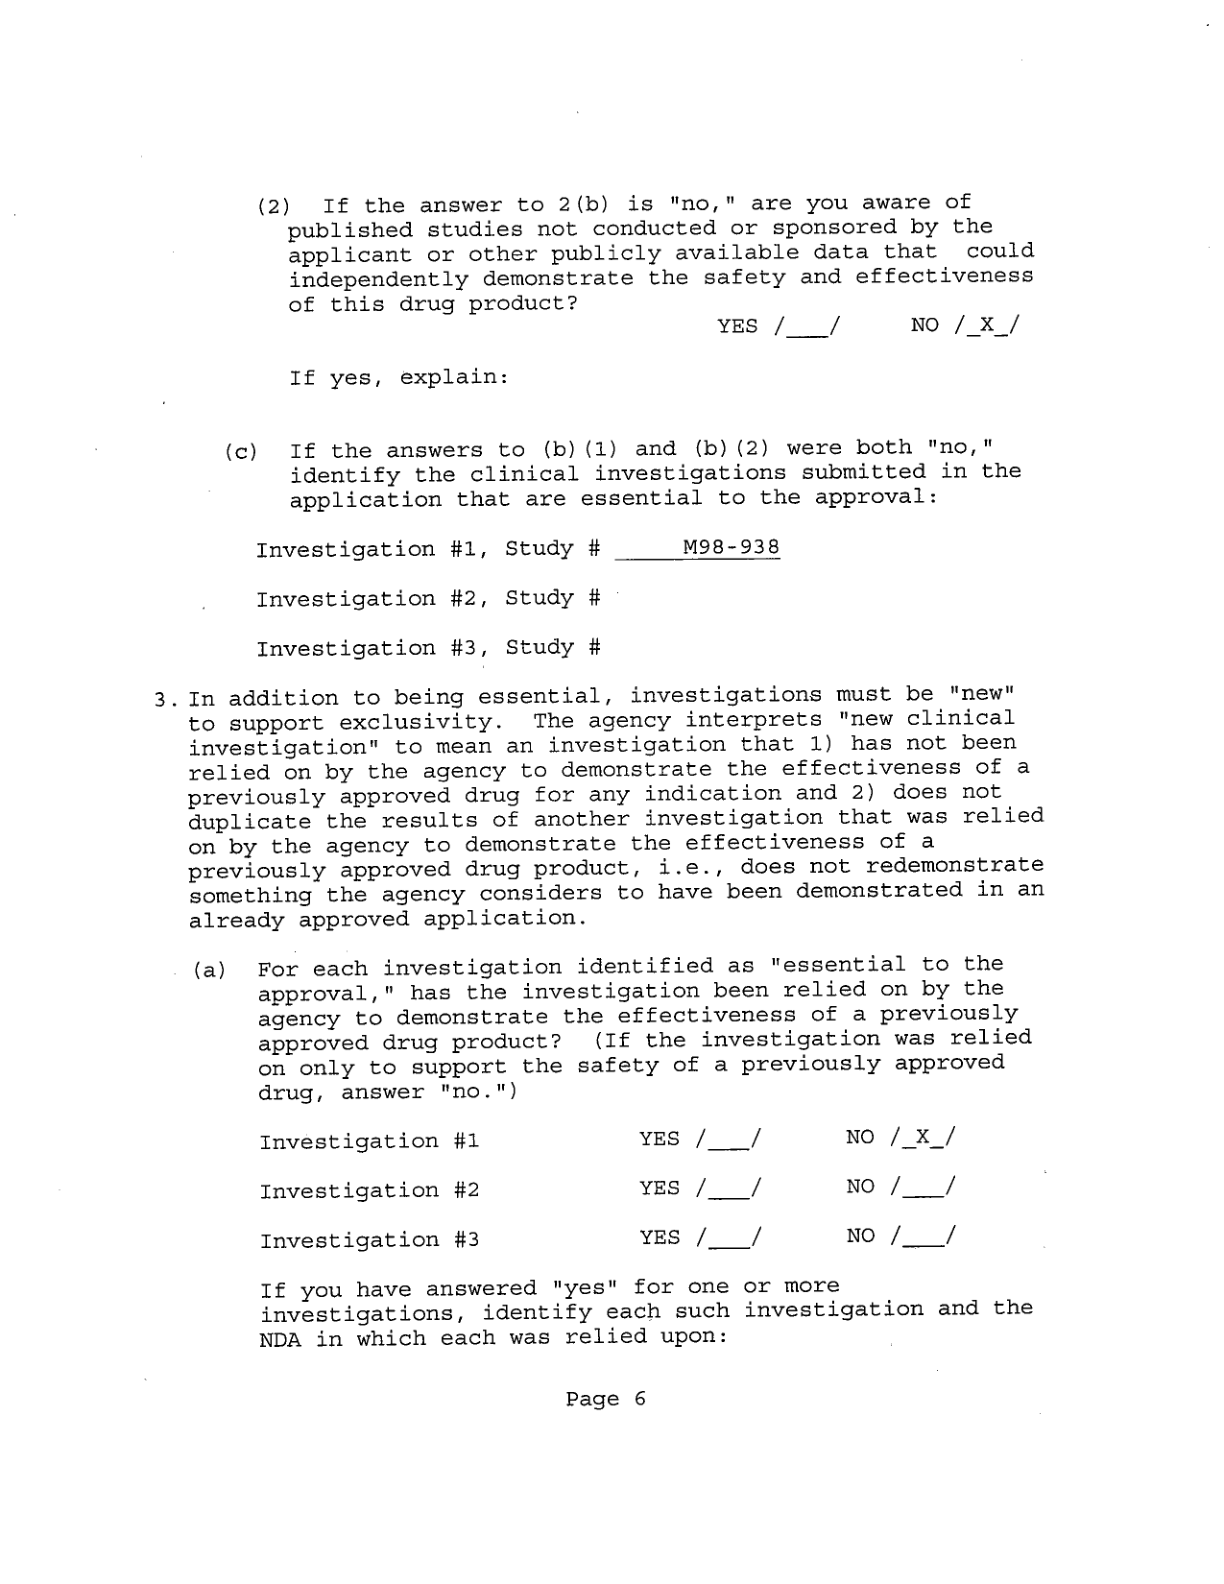nolines: (258, 1121, 964, 1252), (252, 536, 780, 657)
